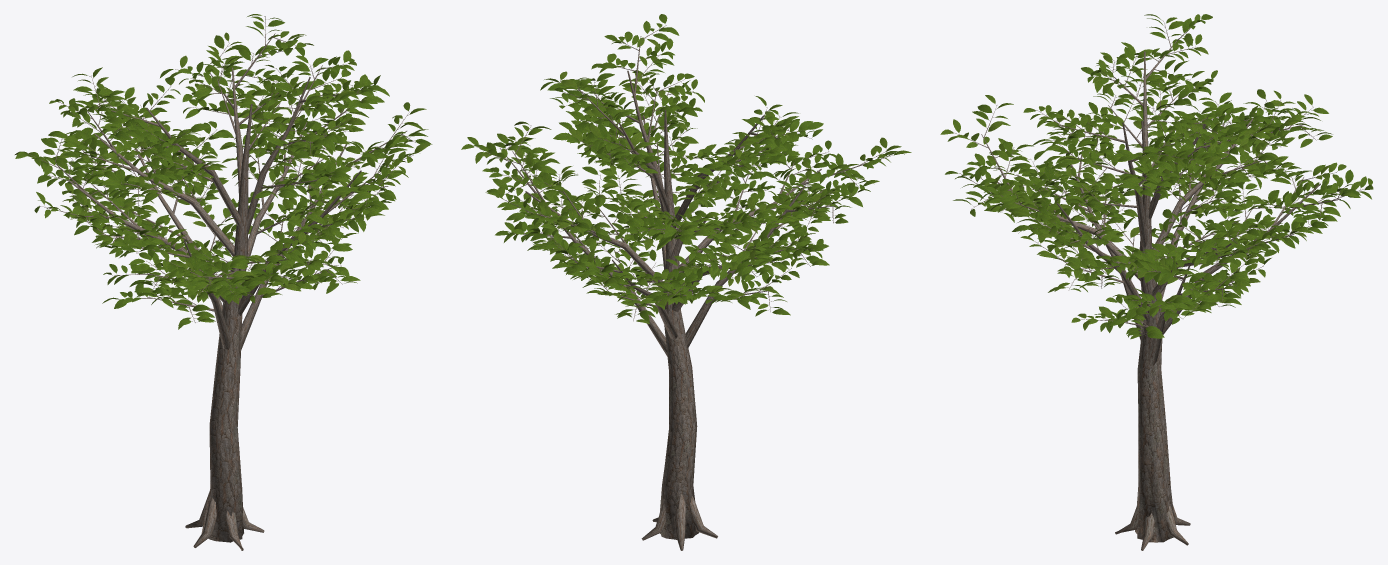
The model's file is s97-near-tree-textured.glb.
3 views of the same model, side by side, from view 1: azimuth 30°, elevation 25°; view 2: azimuth 150°, elevation 25°; view 3: azimuth 270°, elevation 25° (orthographic). The views are drawn at different scales.
Visible parts, largest first — view 1: foliage_green, foliage_mid, tree_bark, foliage_deep, young_bark, foliage_tip; view 2: foliage_green, foliage_mid, tree_bark, foliage_deep, young_bark, foliage_tip; view 3: foliage_green, foliage_mid, tree_bark, foliage_deep, young_bark, foliage_tip.
Boxes of the visible parts, x1,y1,x2,y2 form: foliage_green: [15, 26, 428, 325]; foliage_mid: [31, 14, 413, 329]; tree_bark: [67, 67, 361, 550]; foliage_deep: [34, 17, 432, 311]; young_bark: [28, 16, 415, 322]; foliage_tip: [15, 34, 430, 304]; foliage_green: [461, 14, 901, 316]; foliage_mid: [475, 21, 911, 323]; tree_bark: [525, 70, 821, 550]; foliage_deep: [486, 35, 904, 322]; young_bark: [477, 25, 892, 321]; foliage_tip: [484, 39, 872, 317]; foliage_green: [947, 14, 1373, 338]; foliage_mid: [940, 14, 1360, 339]; tree_bark: [991, 51, 1320, 550]; foliage_deep: [945, 14, 1360, 335]; young_bark: [955, 20, 1363, 335]; foliage_tip: [962, 47, 1358, 321].
Size of the model in its own units: 3.76 by 4.44 by 3.74.
6 materials, 6 textured.
